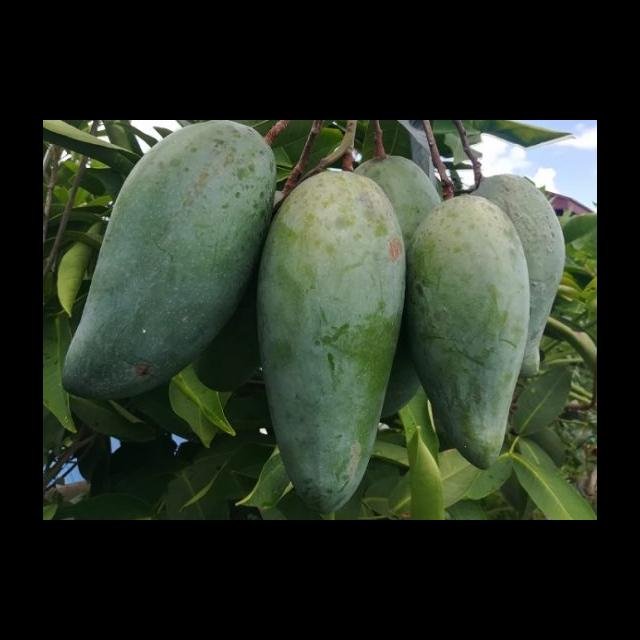xoai: (62, 121, 274, 403), (259, 170, 406, 514), (404, 193, 531, 469)
